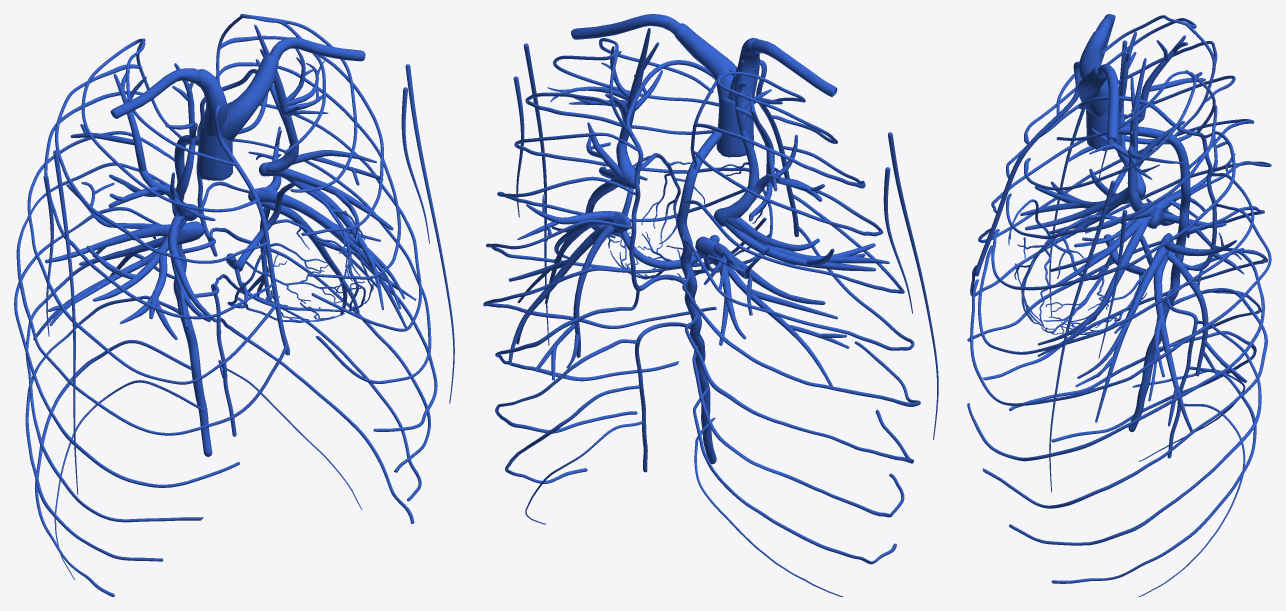
File: veins.thorax.glb
3 renders of one model, left to right at view 1: azimuth 30°, elevation 25°; view 2: azimuth 150°, elevation 25°; view 3: azimuth 270°, elevation 25°, orthographic. The views are drawn at different scales.
Parts seen in each view (by area): view 1: set_of_anterior_intercostal_veins, azygos_vein, left_brachiocephalic_vein, right_posterior_segmental_vein, right_internal_thoracic_vein, right_superior_segmental_vein, superior_vena_cava, left_apical_segmental_vein, right_brachiocephalic_vein, right_lateral_thoracic_vein, left_lateral_thoracic_vein, left_posterior_segmental_vein (+19 smaller); view 2: set_of_anterior_intercostal_veins, azygos_vein, accessory_hemiazygos_vein, left_posterior_segmental_vein, right_lateral_basal_segmental_vein, left_brachiocephalic_vein, right_superior_segmental_vein, left_lateral_basal_segmental_vein, superior_vena_cava, left_subclavian_vein, left_apical_segmental_vein, anterior_part_of_lateral_segmental_vein (+18 smaller); view 3: set_of_anterior_intercostal_veins, azygos_vein, left_posterior_segmental_vein, left_lateral_basal_segmental_vein, left_apical_segmental_vein, right_internal_thoracic_vein, accessory_hemiazygos_vein, left_anterior_basal_segmental_vein, right_posterior_segmental_vein, left_lateral_thoracic_vein, left_brachiocephalic_vein, left_subclavian_vein (+19 smaller).
Part boxes in pixels (x1,y1,x2,y2): set_of_anterior_intercostal_veins: (14, 14, 437, 596); azygos_vein: (172, 135, 212, 456); left_brachiocephalic_vein: (220, 54, 278, 140); right_posterior_segmental_vein: (70, 70, 179, 208); right_internal_thoracic_vein: (213, 105, 289, 355); right_superior_segmental_vein: (45, 184, 186, 263); superior_vena_cava: (196, 124, 232, 180); left_apical_segmental_vein: (254, 24, 328, 150); right_brachiocephalic_vein: (196, 69, 227, 136); right_lateral_thoracic_vein: (53, 150, 78, 494); left_lateral_thoracic_vein: (405, 64, 454, 403); left_posterior_segmental_vein: (248, 59, 326, 192); set_of_anterior_intercostal_veins: (483, 38, 920, 596); azygos_vein: (677, 127, 721, 464); accessory_hemiazygos_vein: (625, 60, 713, 294); left_posterior_segmental_vein: (517, 86, 631, 243); right_lateral_basal_segmental_vein: (728, 268, 849, 386); left_brachiocephalic_vein: (674, 23, 736, 104); right_superior_segmental_vein: (703, 242, 825, 315); left_lateral_basal_segmental_vein: (508, 235, 594, 365); superior_vena_cava: (716, 97, 753, 157); left_subclavian_vein: (571, 14, 679, 39); left_apical_segmental_vein: (601, 28, 662, 144); anterior_part_of_lateral_segmental_vein: (724, 223, 875, 271); set_of_anterior_intercostal_veins: (967, 15, 1271, 596); azygos_vein: (1118, 125, 1190, 431); left_posterior_segmental_vein: (1127, 121, 1244, 274); left_lateral_basal_segmental_vein: (1148, 282, 1192, 431); left_apical_segmental_vein: (1089, 58, 1146, 198); right_internal_thoracic_vein: (974, 61, 1080, 276); accessory_hemiazygos_vein: (1078, 96, 1216, 270); left_anterior_basal_segmental_vein: (1075, 279, 1149, 422); right_posterior_segmental_vein: (1122, 35, 1205, 148); left_lateral_thoracic_vein: (1049, 180, 1115, 492); left_brachiocephalic_vein: (1077, 65, 1108, 116); left_subclavian_vein: (1098, 64, 1119, 143).
Bounding box in the file's own units: 0.2722 × 0.3465 × 0.195.
